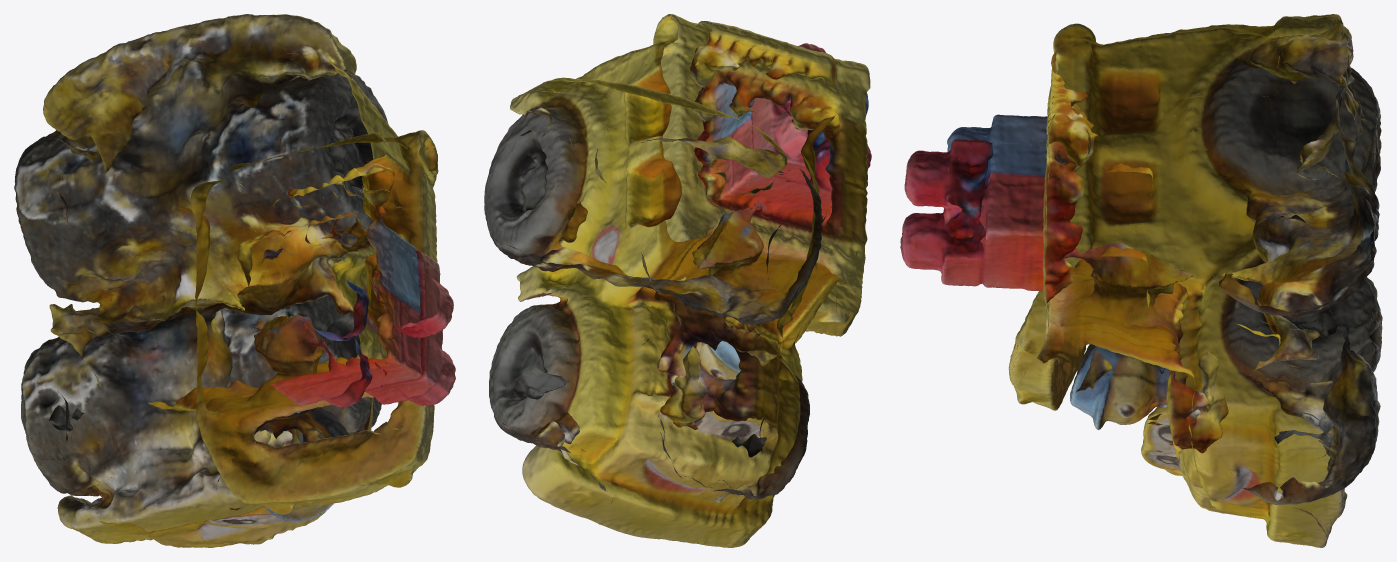
Rendered from school_bus2.glb.
3 views of the same model, side by side, from view 1: azimuth 30°, elevation 25°; view 2: azimuth 150°, elevation 25°; view 3: azimuth 270°, elevation 25° (orthographic). The views are drawn at different scales.
Bounding box in the file's own units: 0.6883 × 1 × 0.962.
